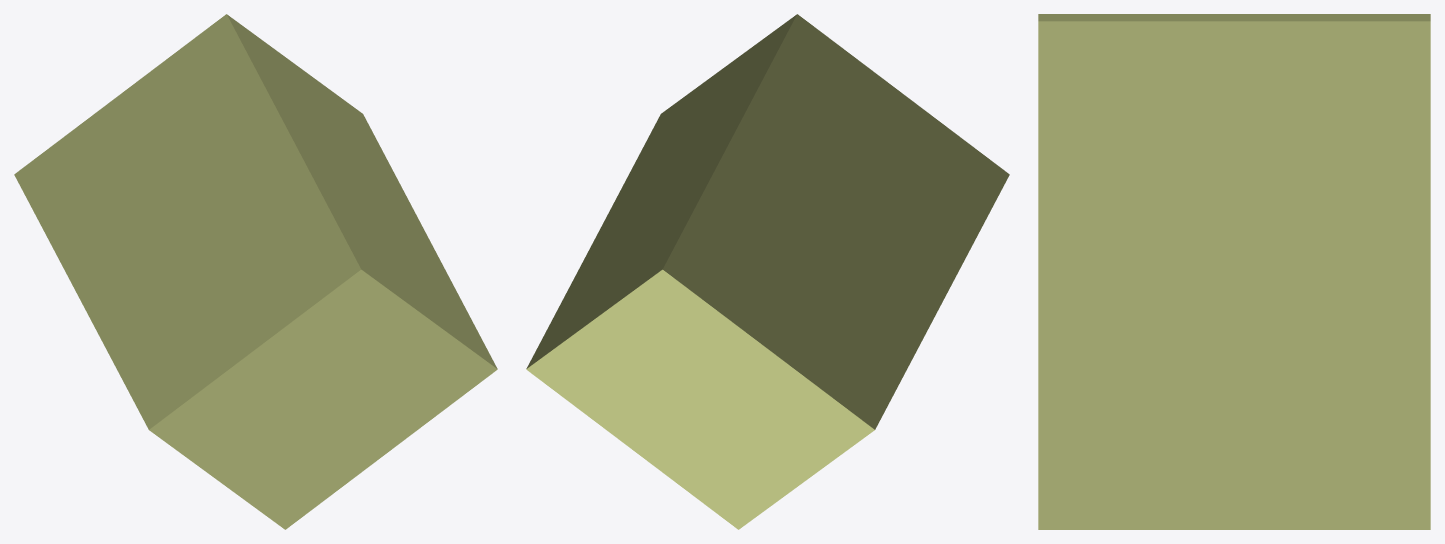
3 views of the same model, side by side, from view 1: azimuth 30°, elevation 25°; view 2: azimuth 150°, elevation 25°; view 3: azimuth 270°, elevation 25° (orthographic). The views are drawn at different scales.
Parts seen in each view (by area): view 1: 0_1_0_2_0_0_3_1_3_0_1; view 2: 0_1_0_2_0_0_3_1_3_0_1; view 3: 0_1_0_2_0_0_3_1_3_0_1.
Boxes of the visible parts, x1,y1,x2,y2 form: 0_1_0_2_0_0_3_1_3_0_1: (14, 14, 497, 529); 0_1_0_2_0_0_3_1_3_0_1: (526, 14, 1009, 529); 0_1_0_2_0_0_3_1_3_0_1: (1038, 14, 1430, 529).
Bounding box in the file's own units: 8.81 × 9.63 × 6.
